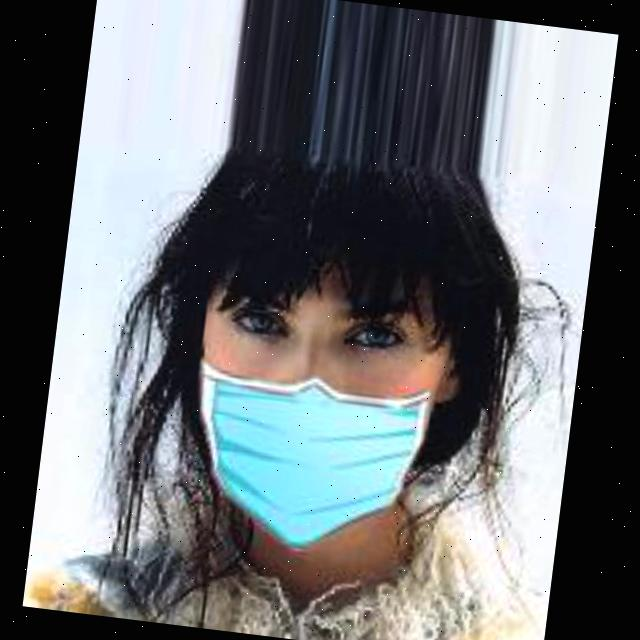suspicion: (142, 162, 499, 569)
